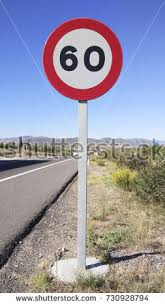Speed_limit_60km: (44, 15, 122, 100)
